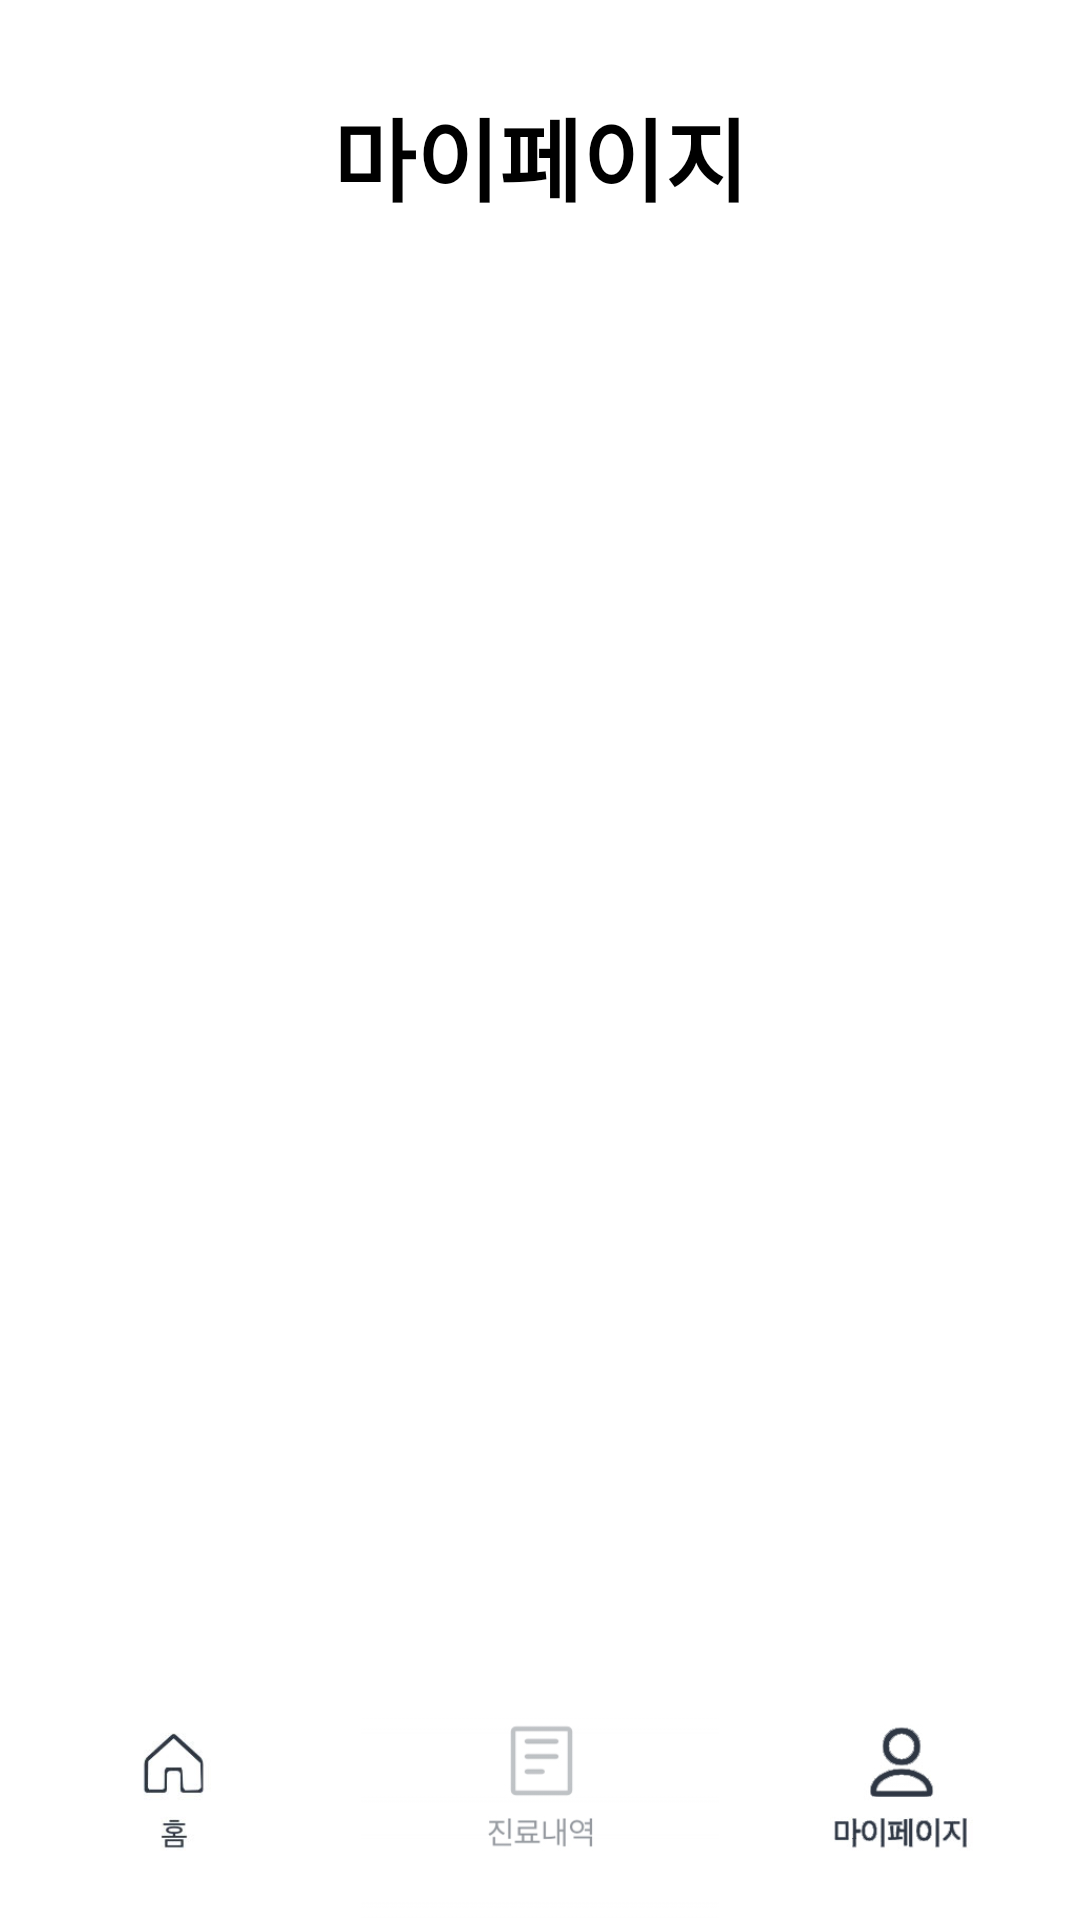

Where icons sit on this 1080px×1920px app screen, as (x1=x1, y1=y1, x2=x2, y2=y2):
list: (x1=489, y1=1726, x2=592, y2=1847)
